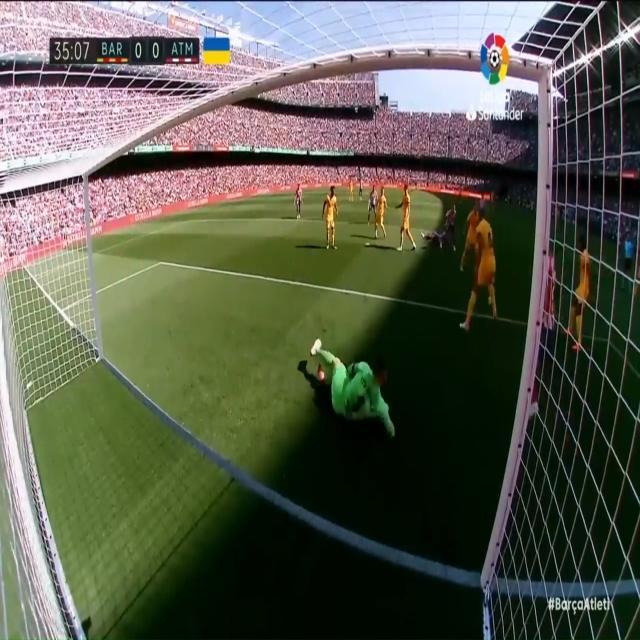goalkeeper: (297, 328, 400, 438)
player: (526, 241, 559, 429), (460, 206, 499, 337), (563, 237, 592, 357), (395, 181, 417, 254), (461, 200, 480, 273), (321, 183, 339, 252), (374, 186, 389, 241), (444, 201, 457, 254), (419, 225, 445, 250), (366, 183, 379, 229), (293, 179, 304, 222)
referee: (620, 228, 635, 295)
